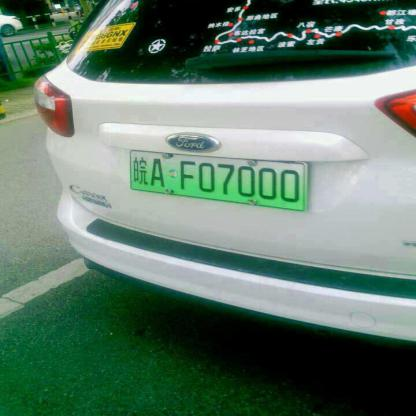lp: (129, 149, 310, 211)
